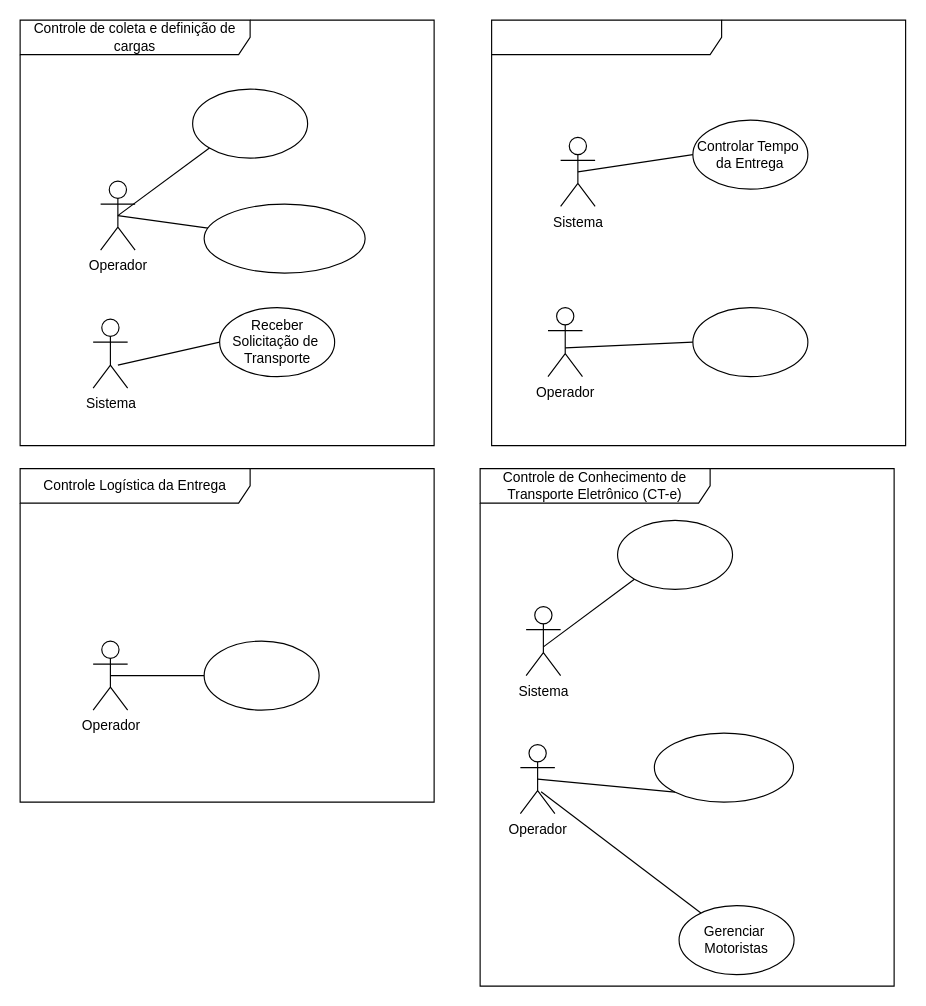
Image size: 926x1006. Some labels were removed from this diagram. The box of each missing label's shape, as (x1, y1, x2, y2) in pixels:
Controle de Expedição: (490, 19, 906, 446)
Definir Carregamento: (191, 88, 308, 158)
Enviar email com CT-e: (616, 519, 733, 589)
Gerar Documento de Acompanhamento do Transporte: (653, 732, 793, 802)
Gerenciar Etapas da Entrega: (203, 640, 319, 710)
Gerenciar Expedição: (692, 306, 808, 377)
Solicitar entrega à empresa parceira: (203, 203, 365, 273)
